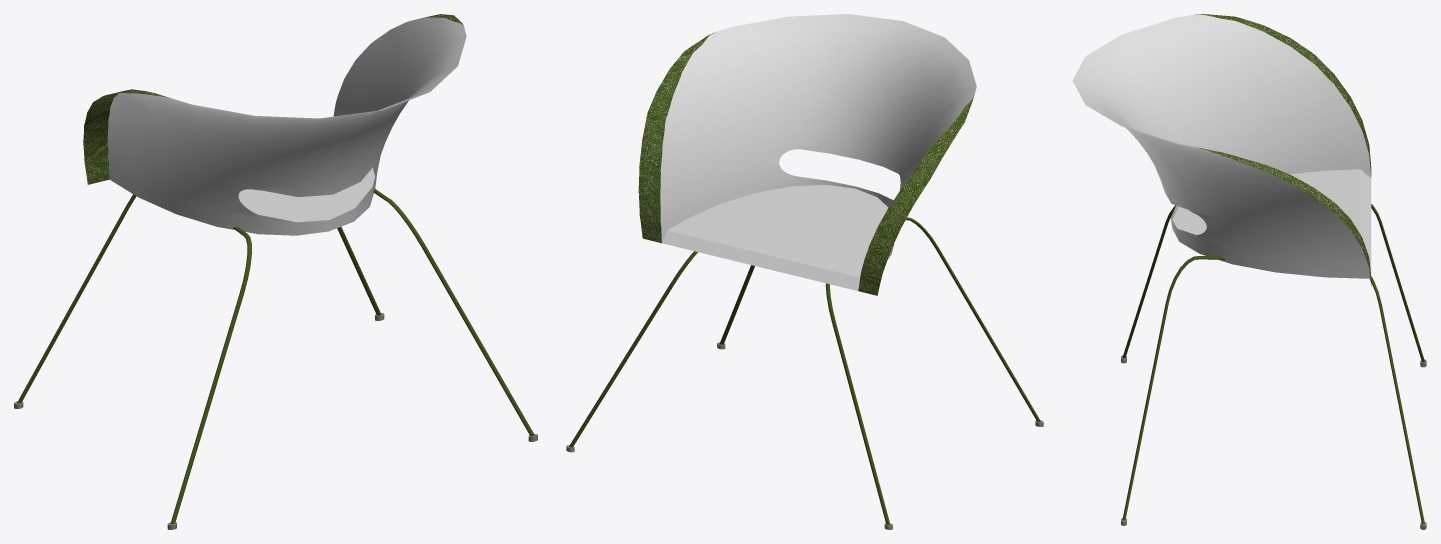
3 views of the same model, side by side, from view 1: azimuth 30°, elevation 25°; view 2: azimuth 150°, elevation 25°; view 3: azimuth 270°, elevation 25° (orthographic). The views are drawn at different scales.
Visible parts, largest first — view 1: mesh5_mesh5-geometry, mesh6_mesh6-geometry; view 2: mesh5_mesh5-geometry, mesh6_mesh6-geometry; view 3: mesh5_mesh5-geometry, mesh6_mesh6-geometry.
Boxes of the visible parts, x1=… form: mesh5_mesh5-geometry: x1=83, y1=14, x2=466, y2=235; mesh6_mesh6-geometry: x1=17, y1=188, x2=534, y2=524; mesh5_mesh5-geometry: x1=638, y1=14, x2=976, y2=295; mesh6_mesh6-geometry: x1=569, y1=217, x2=1040, y2=524; mesh5_mesh5-geometry: x1=1072, y1=14, x2=1371, y2=285; mesh6_mesh6-geometry: x1=1122, y1=204, x2=1424, y2=524.
Bounding box in the file's own units: 0.602 × 0.5983 × 0.5287.
